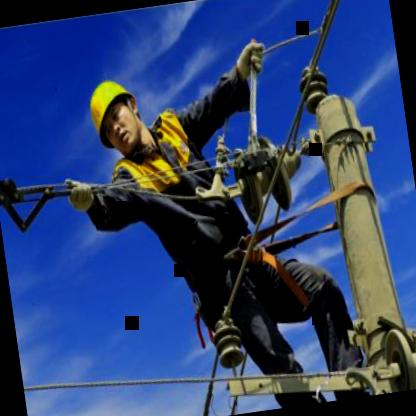helmet: (78, 68, 150, 164)
